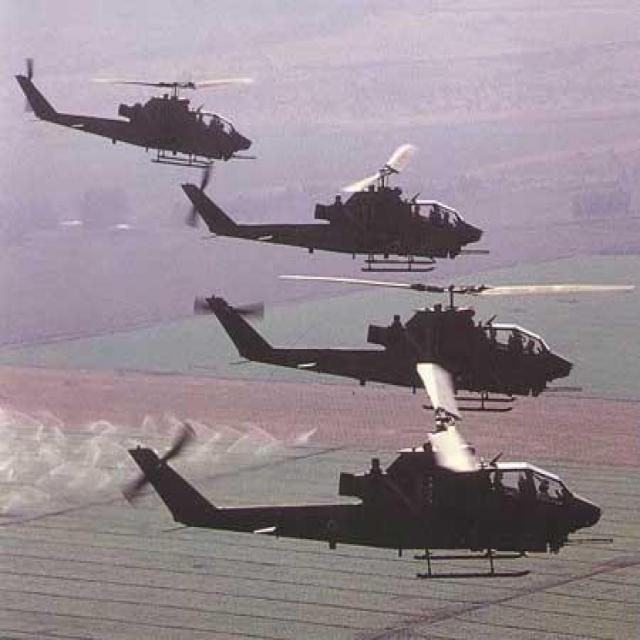MIL_HELO: (106, 405, 638, 583), (189, 264, 640, 421), (164, 140, 500, 267), (12, 52, 266, 170)
